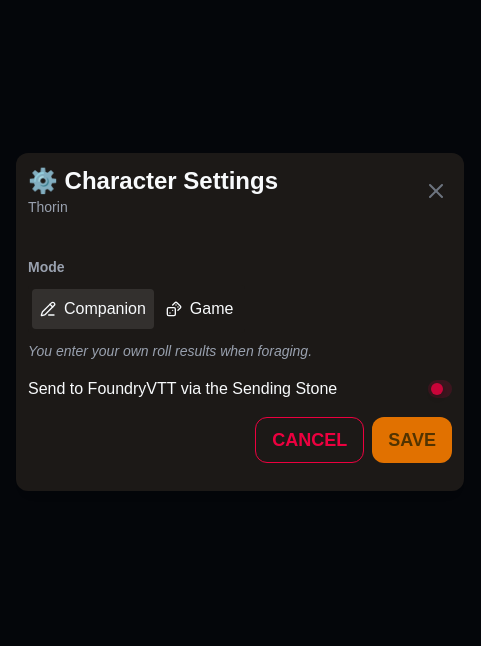
Scenario: components/modals/character-settings-modal › should not save sending before the character is linked
The width and height of the screenshot is (481, 646).
Click the checkbox labelled "Send to FoundryVTT via the Sending Stone" at (240, 389), box left=28, top=377, right=452, bottom=401
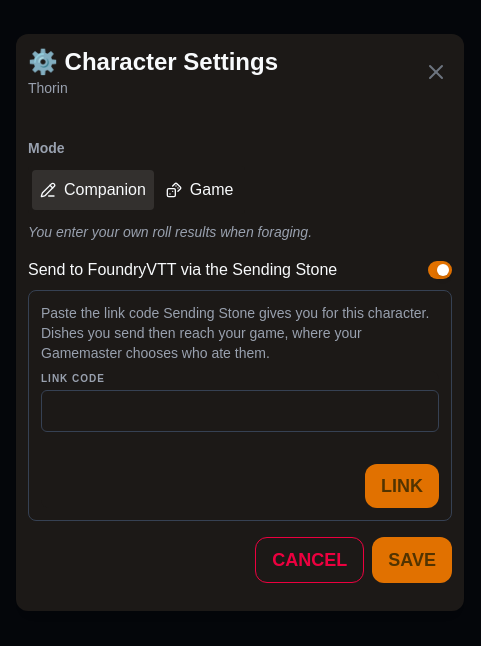
Type "ss_abc123" into the field with test id "link-sending-stone-form__token" at (240, 410), box left=41, top=390, right=439, bottom=432
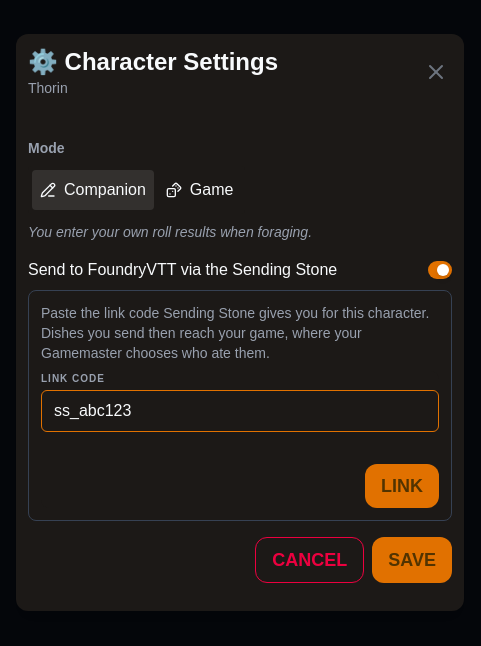
Click the button "Save" at (412, 560), box left=372, top=536, right=452, bottom=582
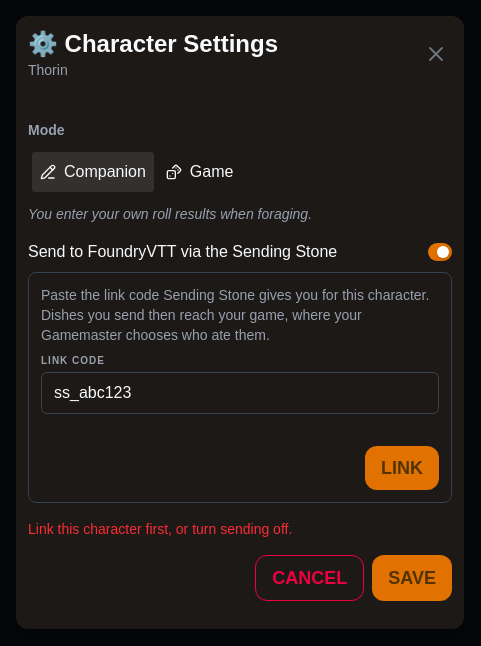
Now the text "Link this character first, or turn sending off." is shown, box left=28, top=520, right=292, bottom=536
